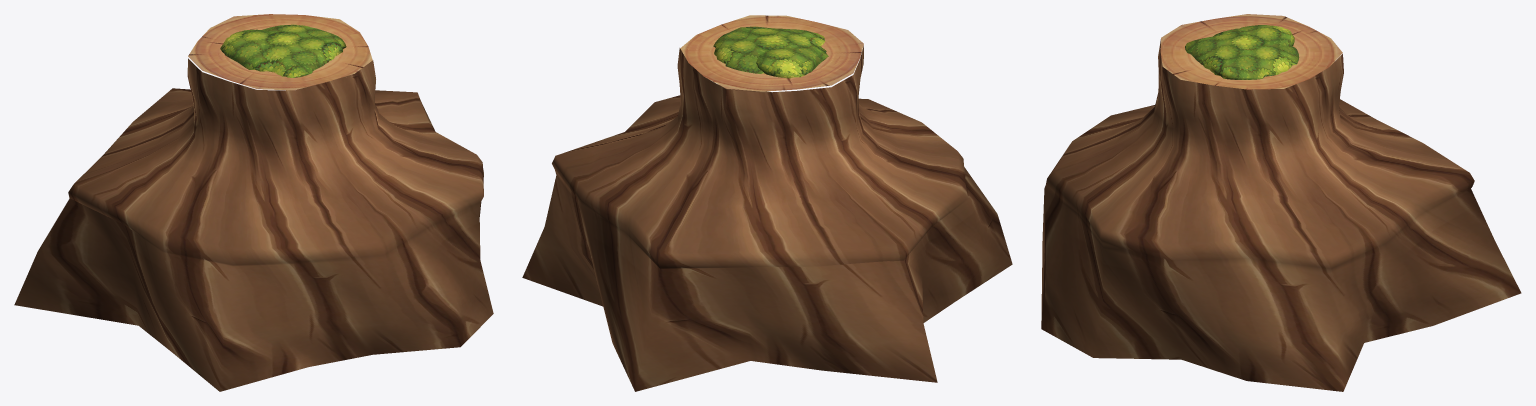
Rendered from mossy_stump1_s15993.gltf.
3 renders of one model, left to right at view 1: azimuth 30°, elevation 25°; view 2: azimuth 150°, elevation 25°; view 3: azimuth 270°, elevation 25°, orthographic.
Parts seen in each view (by area): view 1: mossy_stump1_s15993_bark_LOD0, mossy_stump1_s15993_cap_LOD0, mossy_stump1_s15993_moss_LOD0; view 2: mossy_stump1_s15993_bark_LOD0, mossy_stump1_s15993_cap_LOD0, mossy_stump1_s15993_moss_LOD0; view 3: mossy_stump1_s15993_bark_LOD0, mossy_stump1_s15993_cap_LOD0, mossy_stump1_s15993_moss_LOD0.
Part boxes in pixels (x1,y1,x2,y2): mossy_stump1_s15993_bark_LOD0: [14, 58, 493, 391]; mossy_stump1_s15993_cap_LOD0: [188, 14, 372, 90]; mossy_stump1_s15993_moss_LOD0: [220, 24, 346, 77]; mossy_stump1_s15993_bark_LOD0: [522, 45, 1012, 391]; mossy_stump1_s15993_cap_LOD0: [680, 15, 863, 91]; mossy_stump1_s15993_moss_LOD0: [713, 26, 828, 78]; mossy_stump1_s15993_bark_LOD0: [1041, 39, 1521, 391]; mossy_stump1_s15993_cap_LOD0: [1160, 14, 1342, 89]; mossy_stump1_s15993_moss_LOD0: [1185, 25, 1299, 79].
Size of what is drawn, in the model's own units: 1.47 by 0.8429 by 1.45.
3 materials, 3 textured.
